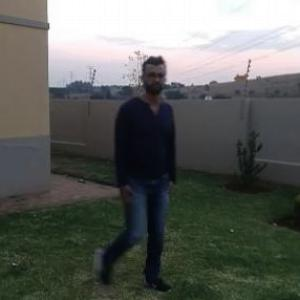follow: (89, 54, 178, 292)
